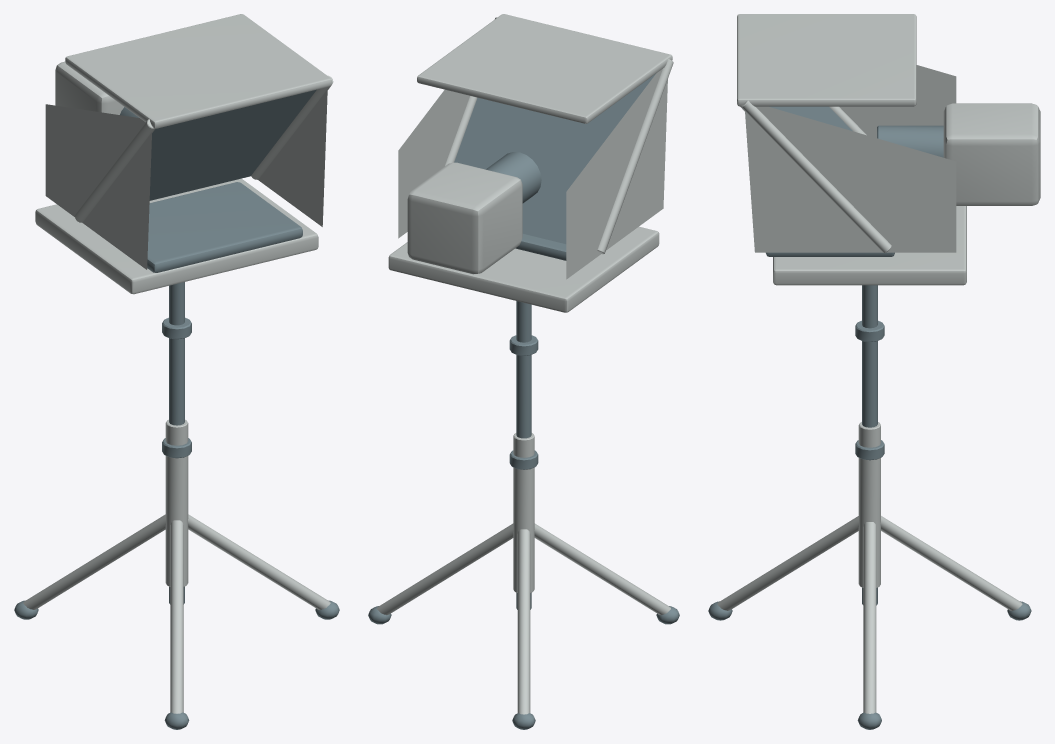
Rendered from teleprompter.glb.
3 views of the same model, side by side, from view 1: azimuth 30°, elevation 25°; view 2: azimuth 150°, elevation 25°; view 3: azimuth 270°, elevation 25° (orthographic). The views are drawn at different scales.
Visible parts, largest first — view 1: hood_roof, hood_side, beam_splitter_glass, prompter_display, camera_plate, hood_side.001, lower_stand, tripod_leg_1, tripod_leg_0, tripod_leg_2, telescoping_stand, broadcast_camera (+2 smaller); view 2: hood_roof, beam_splitter_glass, broadcast_camera, hood_side, camera_plate, hood_side.001, tripod_leg_2, lower_stand, tripod_leg_0, tripod_leg_1, telescoping_stand, glass_side_rail (+3 smaller); view 3: hood_side.001, hood_roof, broadcast_camera, camera_plate, hood_side, tripod_leg_0, lower_stand, glass_side_rail.001, tripod_leg_2, tripod_leg_1, telescoping_stand, camera_lens (+2 smaller).
Part boxes in pixels (box(x1,y1,x2,y2)): hood_roof: box(65, 14, 332, 128); hood_side: box(45, 104, 151, 269); beam_splitter_glass: box(149, 89, 316, 200); prompter_display: box(147, 182, 302, 272); camera_plate: box(35, 178, 318, 294); hood_side.001: box(258, 89, 327, 226); lower_stand: box(165, 419, 188, 586); tripod_leg_1: box(170, 520, 183, 713); tripod_leg_0: box(188, 514, 330, 609); tripod_leg_2: box(23, 514, 165, 609); telescoping_stand: box(169, 282, 184, 604); broadcast_camera: box(55, 61, 123, 114); hood_roof: box(417, 14, 672, 123); beam_splitter_glass: box(454, 74, 655, 243); broadcast_camera: box(407, 162, 522, 274); hood_side: box(566, 68, 667, 279); camera_plate: box(388, 226, 659, 312); hood_side.001: box(398, 89, 469, 238); tripod_leg_2: box(517, 529, 530, 714); lower_stand: box(513, 433, 534, 592); tripod_leg_0: box(377, 523, 513, 615); tripod_leg_1: box(534, 523, 670, 615); telescoping_stand: box(516, 301, 531, 609); glass_side_rail: box(597, 59, 673, 254); hood_side.001: box(745, 106, 956, 252); hood_roof: box(737, 14, 916, 106); broadcast_camera: box(943, 103, 1040, 205); camera_plate: box(773, 206, 966, 285); hood_side: box(839, 65, 956, 138); tripod_leg_0: box(863, 522, 876, 713); lower_stand: box(858, 422, 880, 587); glass_side_rail.001: box(740, 100, 891, 252); tripod_leg_2: box(880, 516, 1022, 610); tripod_leg_1: box(717, 516, 858, 610); telescoping_stand: box(862, 285, 877, 605); camera_lens: box(877, 125, 943, 157).
Size of the model in its own units: 0.814 by 1.84 by 0.9247.
